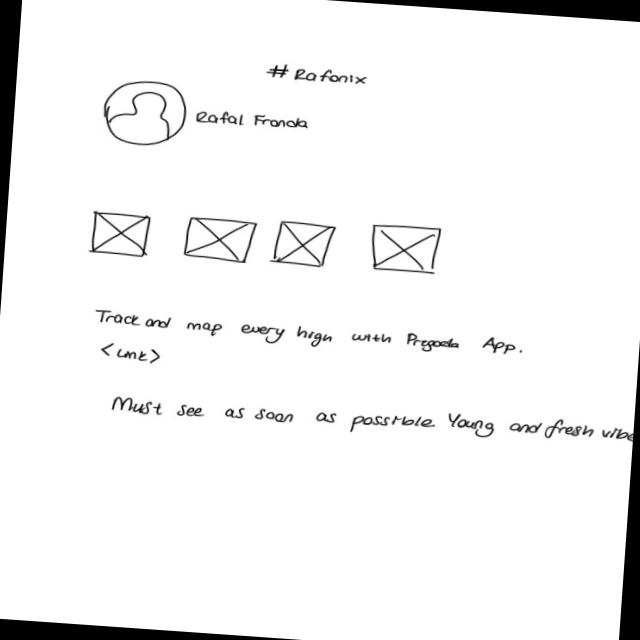image: (99, 78, 190, 149), (368, 222, 443, 275), (182, 216, 258, 266), (272, 218, 337, 268), (90, 210, 150, 258)
label: (106, 386, 634, 451), (92, 306, 526, 358), (193, 106, 311, 134), (264, 60, 370, 88)
link: (98, 341, 164, 366)
